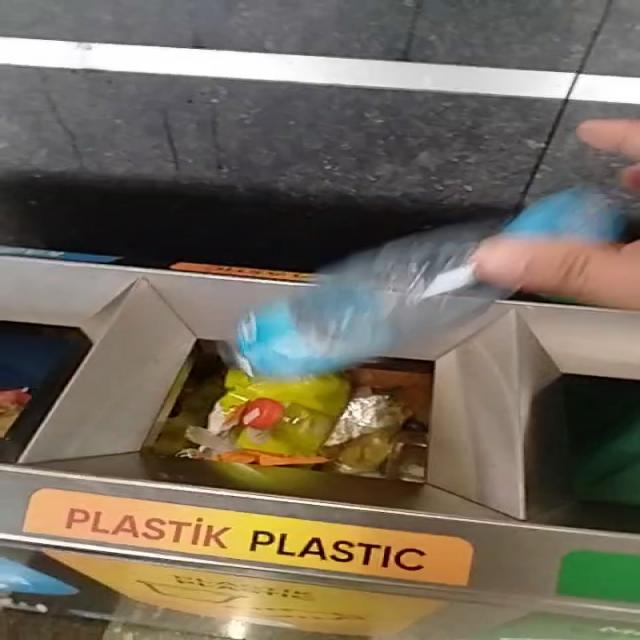plastic: (237, 186, 637, 378)
